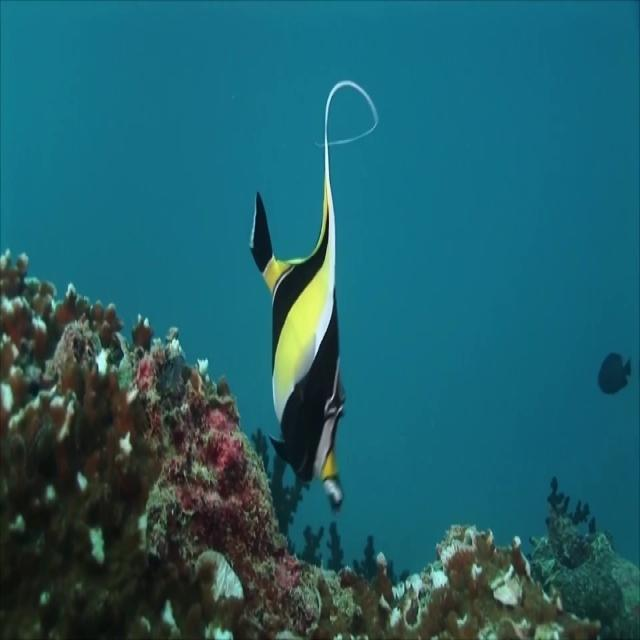aquatic plants: (0, 252, 600, 638)
fish: (249, 78, 380, 506)
